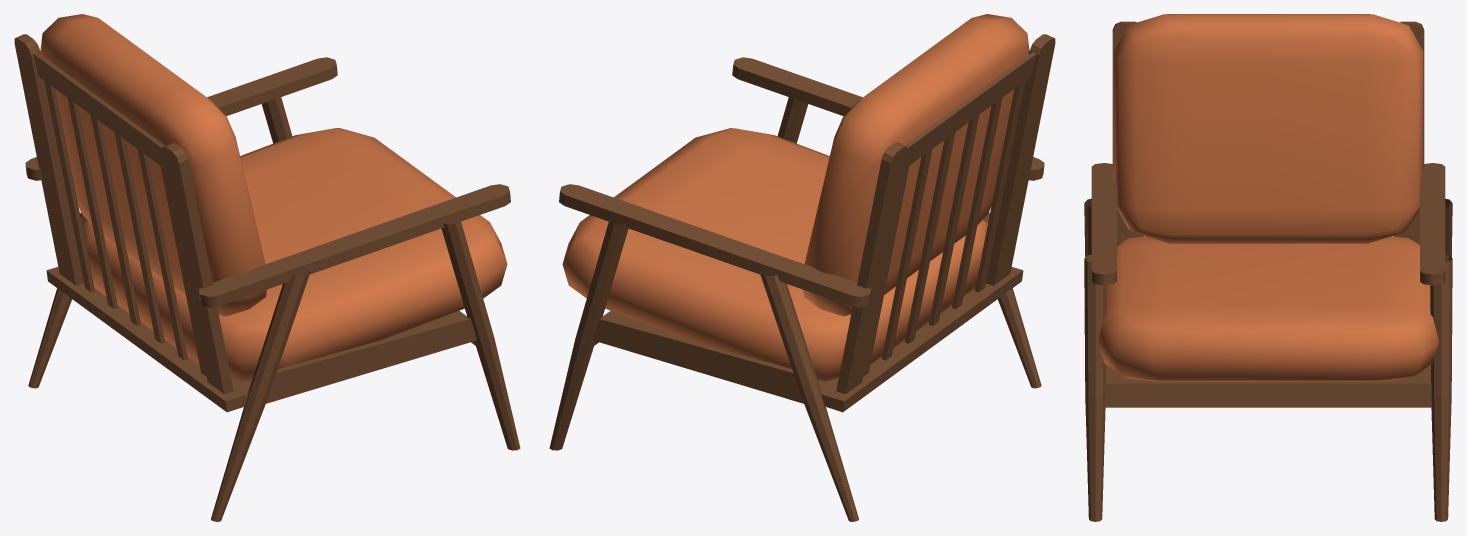
Rendered from Orange Chair.fbx.
The picture shows the model from 3 angles, left to right: view 1: azimuth 30°, elevation 25°; view 2: azimuth 150°, elevation 25°; view 3: azimuth 270°, elevation 25°; orthographic projection. The views are drawn at different scales.
Visible parts, largest first — view 1: Cube.159, Cube.163, Plane, Plane.005, Plane.001, Plane.002, Plane.003, Plane.004; view 2: Cube.159, Cube.163, Plane, Plane.005, Plane.001, Plane.002, Plane.003, Plane.004; view 3: Cube.163, Cube.159, Plane, Plane.003, Plane.001, Plane.002.
Part boxes in pixels (x1,y1,x2,y2): Cube.159: [82, 128, 507, 381]; Cube.163: [40, 14, 266, 316]; Plane: [28, 97, 520, 521]; Plane.005: [44, 81, 206, 376]; Plane.001: [25, 57, 510, 307]; Plane.002: [14, 34, 233, 394]; Plane.003: [46, 267, 476, 412]; Plane.004: [33, 52, 165, 169]; Cube.159: [562, 128, 987, 381]; Cube.163: [803, 14, 1029, 316]; Plane: [549, 97, 1041, 521]; Plane.005: [863, 81, 1025, 376]; Plane.001: [559, 57, 1044, 307]; Plane.002: [836, 34, 1055, 394]; Plane.003: [593, 267, 1023, 412]; Plane.004: [904, 52, 1036, 169]; Cube.163: [1113, 14, 1423, 243]; Cube.159: [1098, 236, 1438, 381]; Plane: [1084, 198, 1452, 521]; Plane.003: [1105, 364, 1431, 407]; Plane.001: [1091, 163, 1445, 285]; Plane.002: [1112, 21, 1424, 244].
Bounding box in the file's own units: 3514 × 3426 × 3804.
